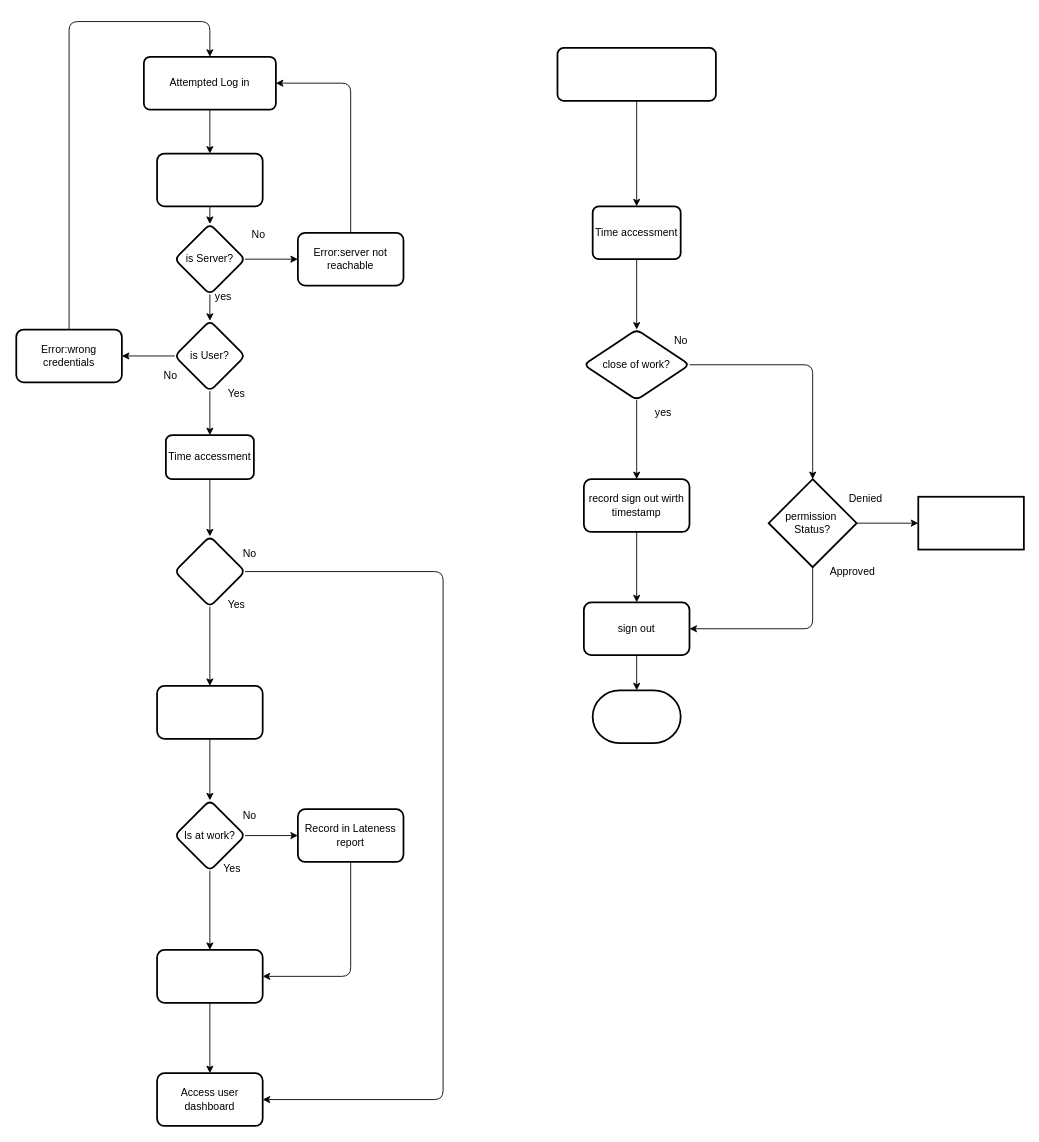
Some shapes in this 1039 by 1142 pixel diagram are drawn without their labels. The box of each missing label's shape, as (x1, y1, x2, y2) in pixels:
Access Location: (156, 685, 263, 739)
Attempted log out: (556, 47, 716, 101)
Authentication: (156, 152, 263, 207)
End: (591, 689, 681, 744)
Not allowed: (917, 495, 1024, 550)
Record in attendance with timestamp: (156, 949, 263, 1003)
Work Time?: (173, 535, 246, 607)
